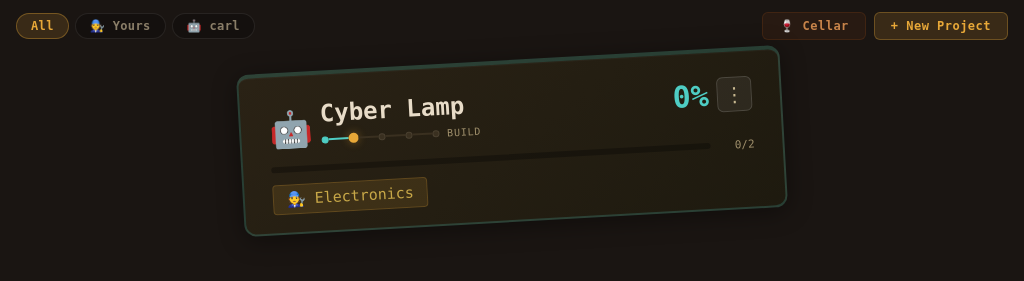
it: ProjectPipeline › opens the card menu without opening the detail modal
This screenshot has width=1024, height=281.
What coordinates should you click on to do the following:
click the button "⋮"
I would click on:
 (734, 94)
Its box is 716,76 -> 753,112.
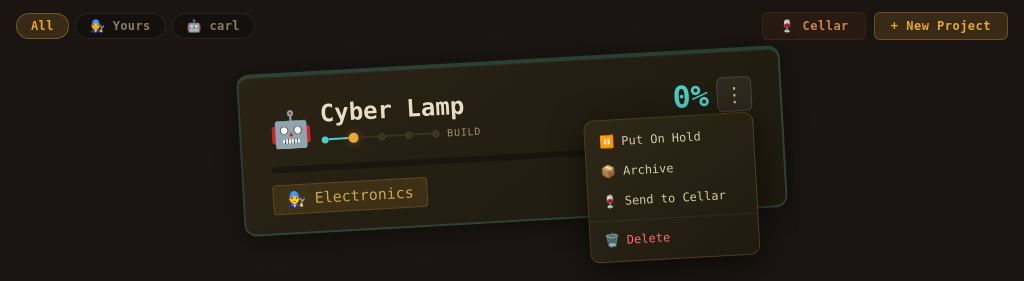
Check: the button "⏸️ Put On Hold" is shown, box 584,119 -> 754,158
